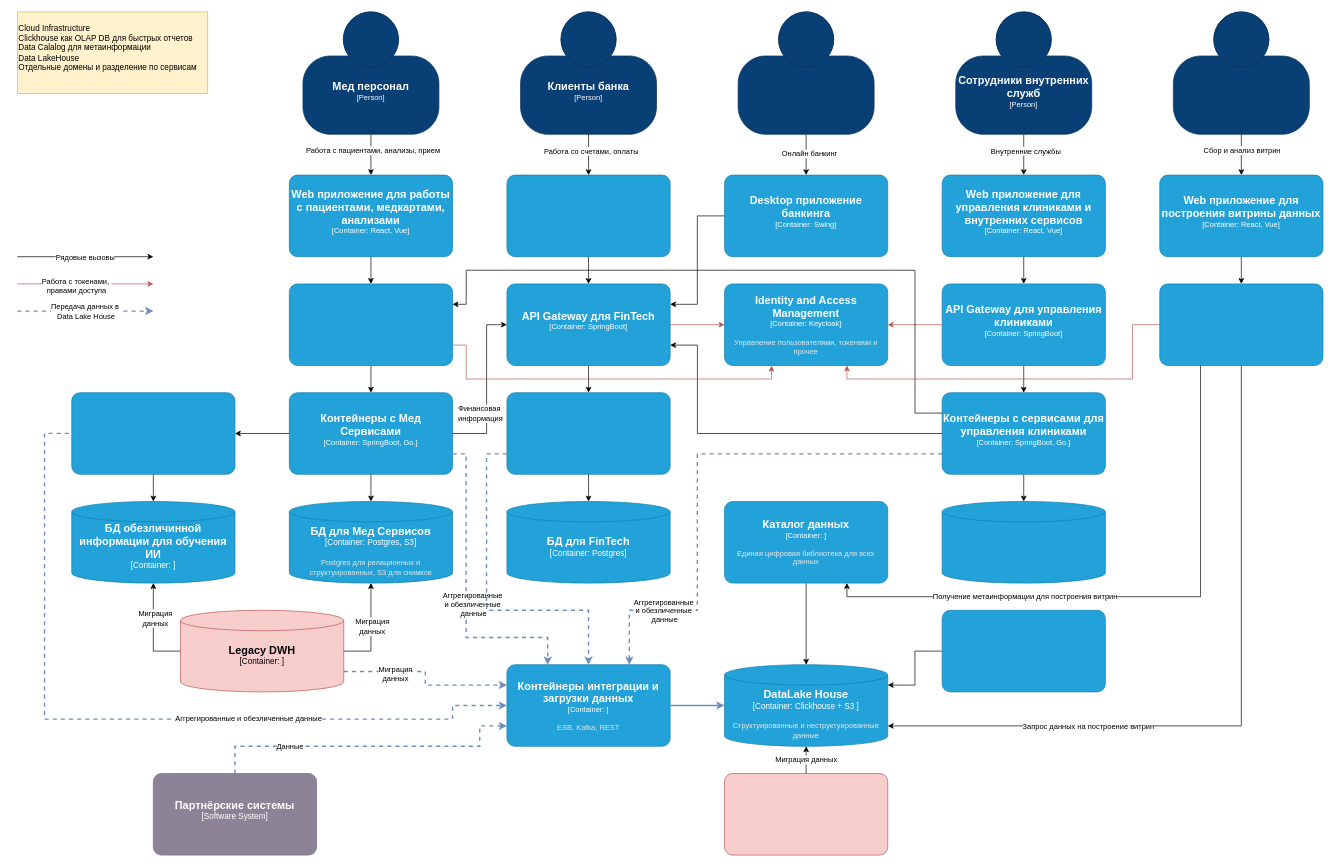
The diagram is 1335 pixels wide and 867 high, and some of its shapes have lost their labels. Each missing label, with the centre of its shape:
"API Gateway для Мед Сервисов [Container: SpringBoot]" goes at [371,324].
"Legacy BI [Container: PowerBuilder, Power BI]" goes at [806,814].
"Web приложение Online банкинг [Container: React, Vue]" goes at [588,215].
"БД для управления клиниками [Container: Postgres]" goes at [1023,542].
"ИИ Сервисы [Container: ] Применение ИИ для постановки диагноза и прочее" goes at [153,433].
"ИИ Сервисы анализа данных [Container: ]" goes at [1023,651].
"Контейнеры с BI приложением [Container: ]" goes at [1241,324].
"Контейнеры с FinTech сервисами [Container: SpringBoot, Go.]" goes at [588,433].
"Сотрудники банка [Person]" goes at [805,72].
"Сотрудники работы с аналитикой [Person]" goes at [1241,72].
